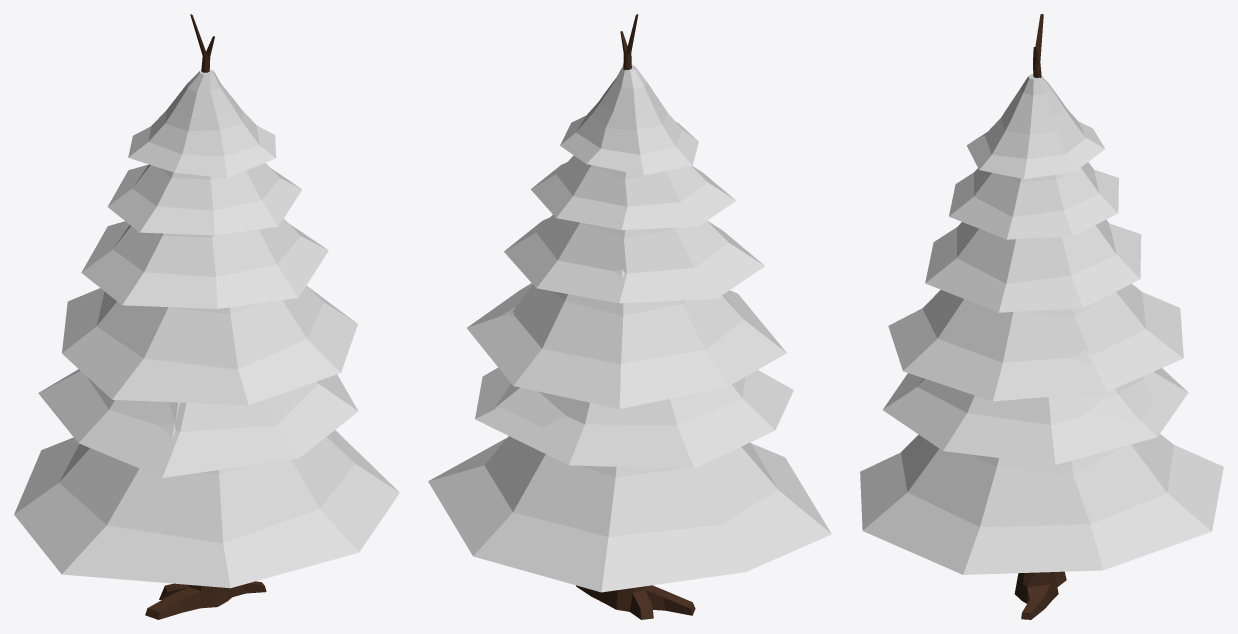
The model's file is pinetree.glb.
3 renders of one model, left to right at view 1: azimuth 30°, elevation 25°; view 2: azimuth 150°, elevation 25°; view 3: azimuth 270°, elevation 25°, orthographic. The views are drawn at different scales.
Parts seen in each view (by area): view 1: Cube.005, tronc; view 2: Cube.005, tronc; view 3: Cube.005, tronc.
Boxes of the visible parts, x1,y1,x2,y2 form: Cube.005: (14,69,399,588); tronc: (145,14,266,619); Cube.005: (428,64,831,592); tronc: (576,14,695,619); Cube.005: (860,74,1223,574); tronc: (1014,14,1066,619).
Bounding box in the file's own units: 17.32 × 28.77 × 16.53.
